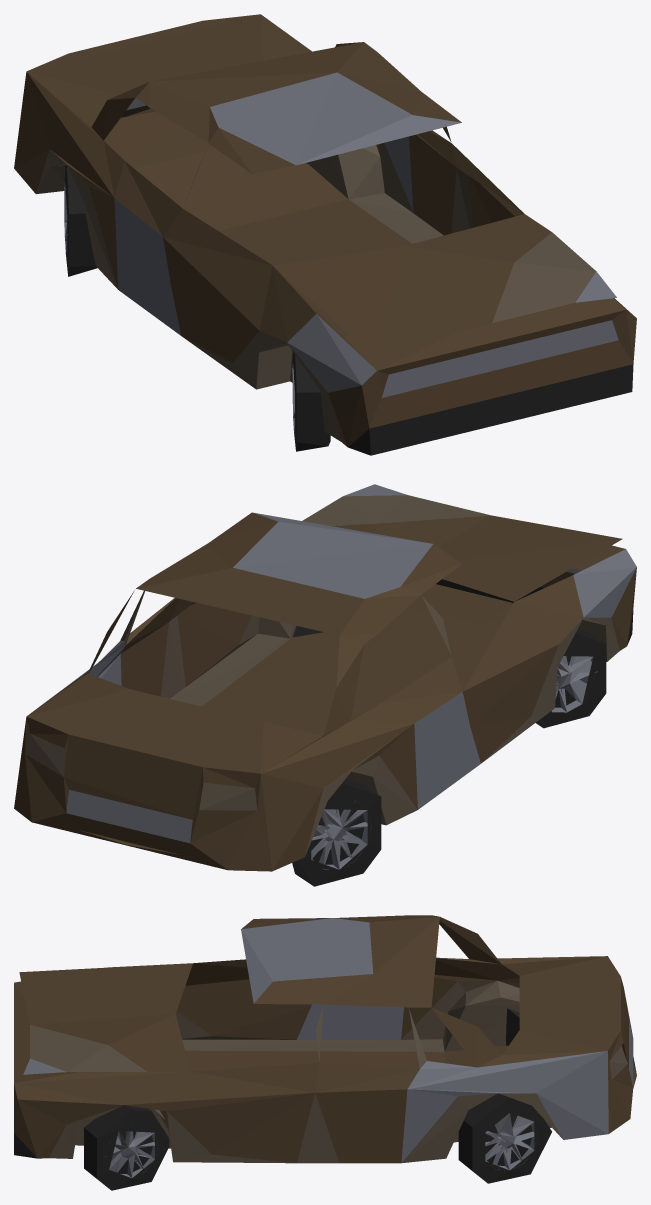
Rendered from car1.glb.
3 views of the same model, one above another, from view 1: azimuth 30°, elevation 25°; view 2: azimuth 150°, elevation 25°; view 3: azimuth 270°, elevation 25° (orthographic). The views are drawn at different scales.
Parts seen in each view (by area): view 1: Debris_BrokenCar; view 2: Debris_BrokenCar; view 3: Debris_BrokenCar.
Part boxes in pixels (box(x1,y1,x2,y2)): Debris_BrokenCar: box(14, 14, 636, 455); Debris_BrokenCar: box(14, 484, 636, 886); Debris_BrokenCar: box(14, 915, 636, 1190).
Bounding box in the file's own units: 2.59 × 1.76 × 5.4.
